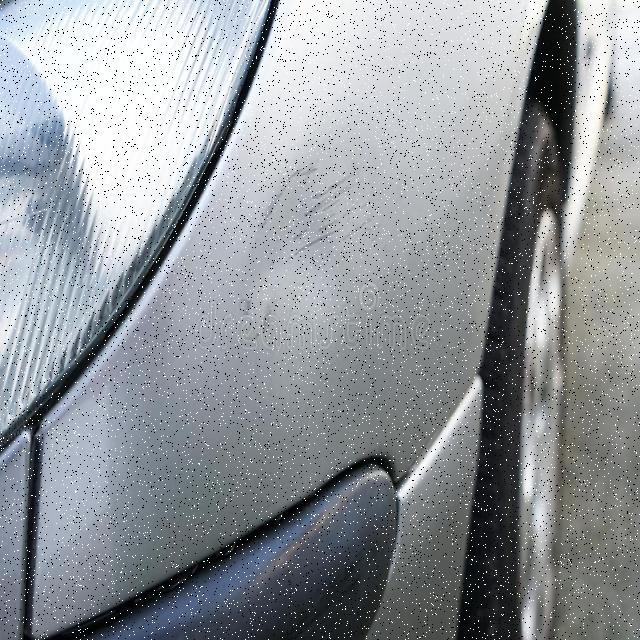front-bumper-dent: (68, 0, 607, 526)
